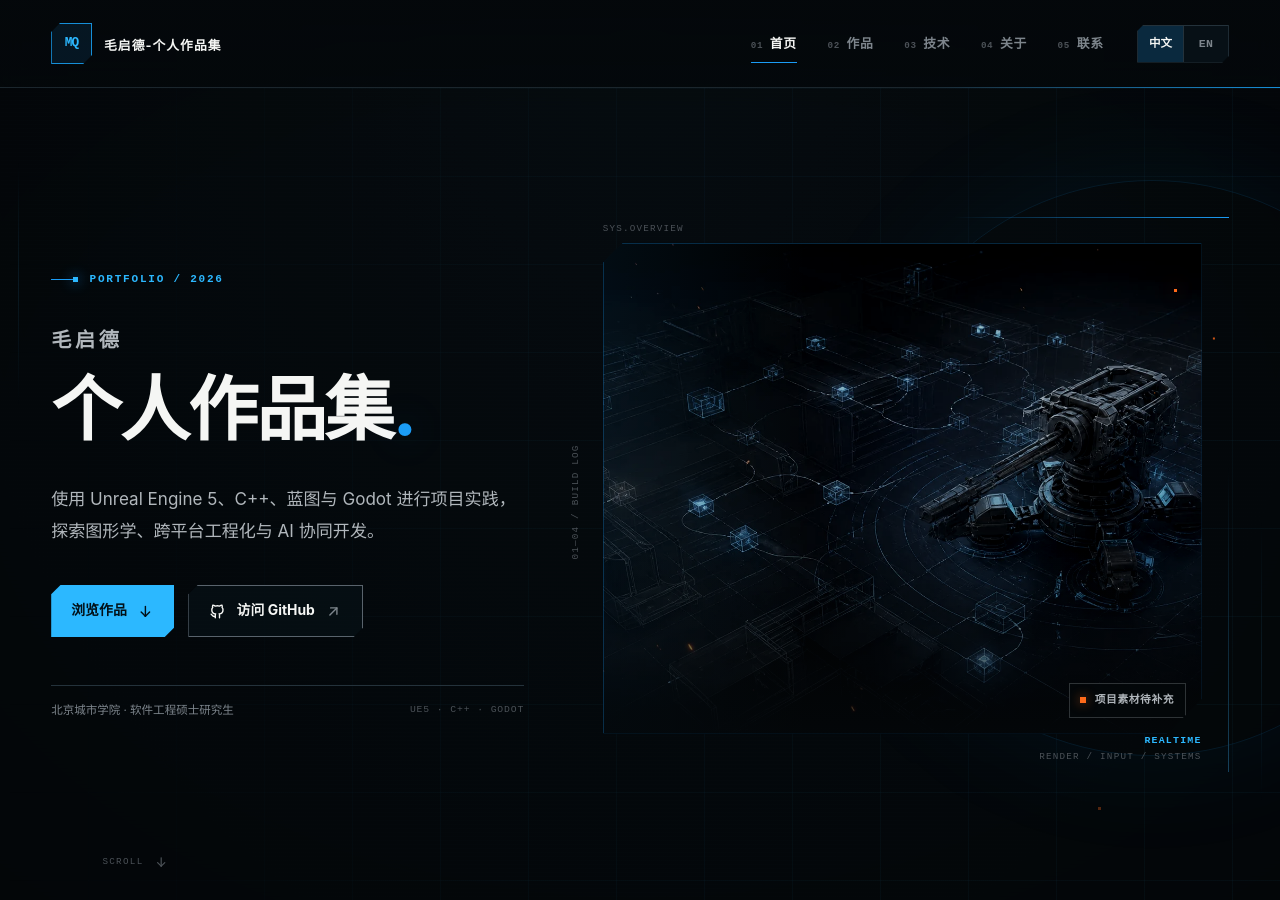
portfolio page › switches to English and synchronizes URL and localStorage
Click the button "EN". click: (1205, 44)
box: [1183,26,1228,62]
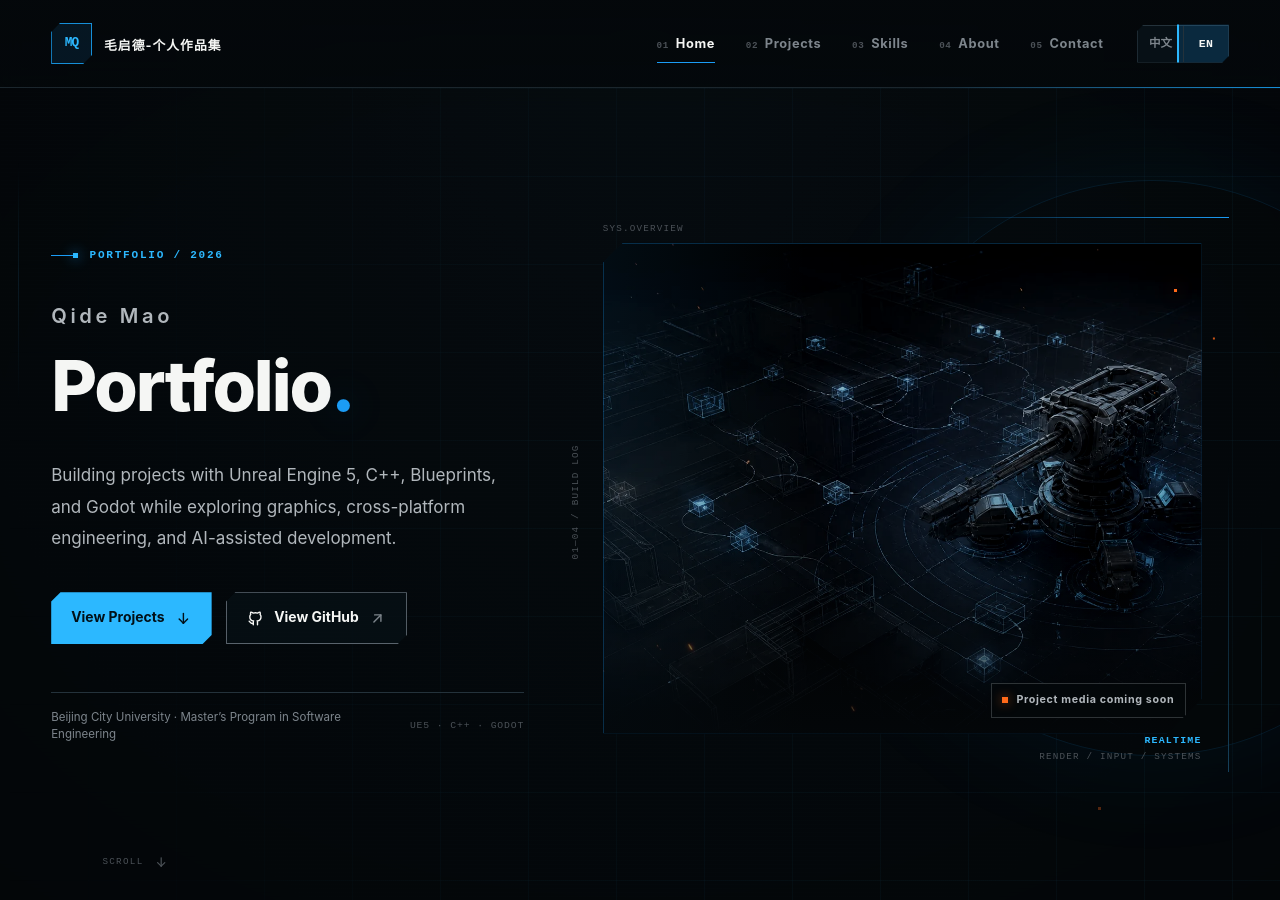
Expected: the heading "Portfolio." is shown, [51,343,354,428]
